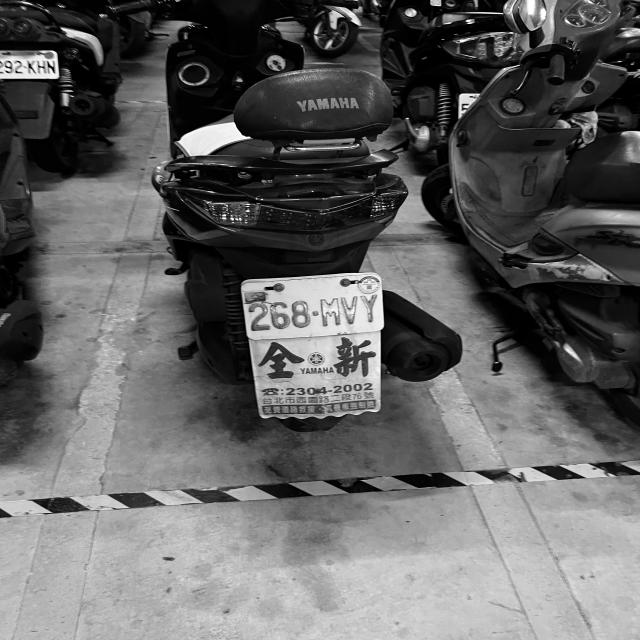-: (312, 310, 319, 316), (24, 66, 28, 70)
2: (246, 301, 272, 333), (14, 60, 24, 74)
6: (268, 300, 290, 328)
8: (290, 300, 310, 330)
9: (4, 60, 13, 74)
H: (36, 59, 47, 74)
K: (27, 59, 36, 74)
M: (320, 298, 341, 326)
N: (46, 59, 57, 74)
V: (342, 296, 361, 324)
Y: (360, 292, 378, 322)
plate: (241, 278, 389, 334)
